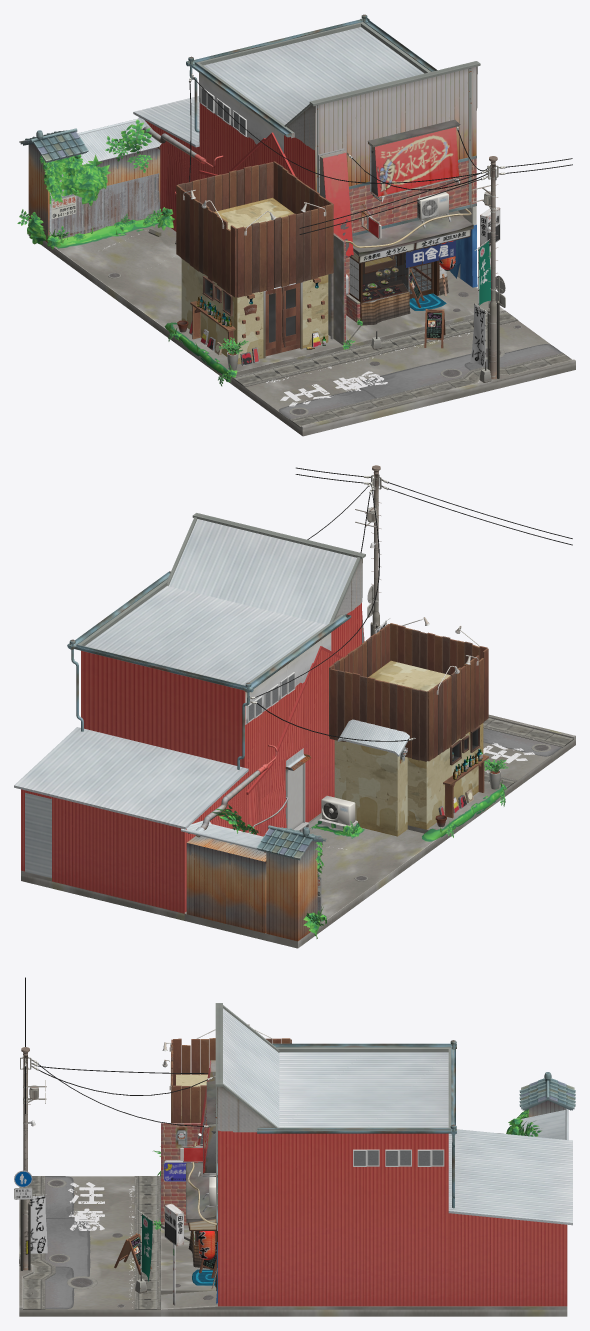
File: restaurant-desktop.glb
3 renders of one model, top to bottom at view 1: azimuth 30°, elevation 25°; view 2: azimuth 150°, elevation 25°; view 3: azimuth 270°, elevation 25°, orthographic.
Visible parts, largest first — view 1: Inakaya; view 2: Inakaya; view 3: Inakaya.
Boxes of the visible parts, x1,y1,x2,y2 form: Inakaya: (17,14,575,436); Inakaya: (14,465,575,948); Inakaya: (14,977,575,1316).
Bounding box in the file's own units: 8.38 × 6.32 × 13.35.
5 materials, 3 textured.
